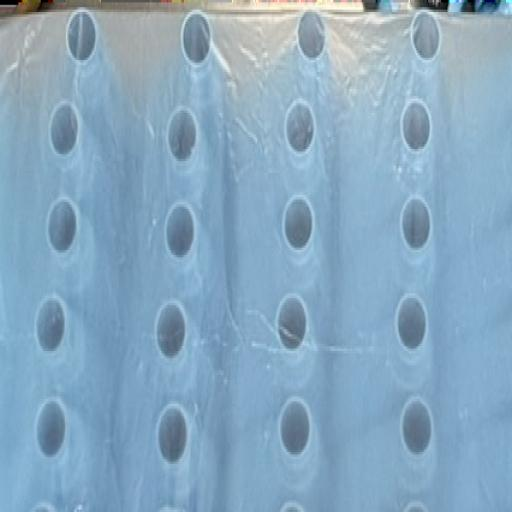Bottles: (279, 400, 311, 456), (401, 400, 432, 456), (47, 198, 78, 254), (35, 400, 66, 456), (157, 407, 188, 463), (156, 303, 186, 360), (35, 296, 64, 353), (166, 202, 195, 259), (277, 296, 307, 350), (283, 198, 313, 252), (397, 296, 426, 350), (401, 198, 431, 249), (402, 99, 431, 151), (50, 104, 79, 156), (285, 101, 314, 153), (168, 109, 197, 161), (67, 10, 96, 62), (182, 13, 211, 64), (412, 13, 439, 62), (297, 13, 325, 60), (282, 505, 302, 511), (406, 505, 426, 511), (189, 13, 201, 21), (34, 508, 51, 511), (77, 11, 84, 13), (420, 11, 426, 13), (39, 510, 46, 511), (40, 510, 45, 511)
